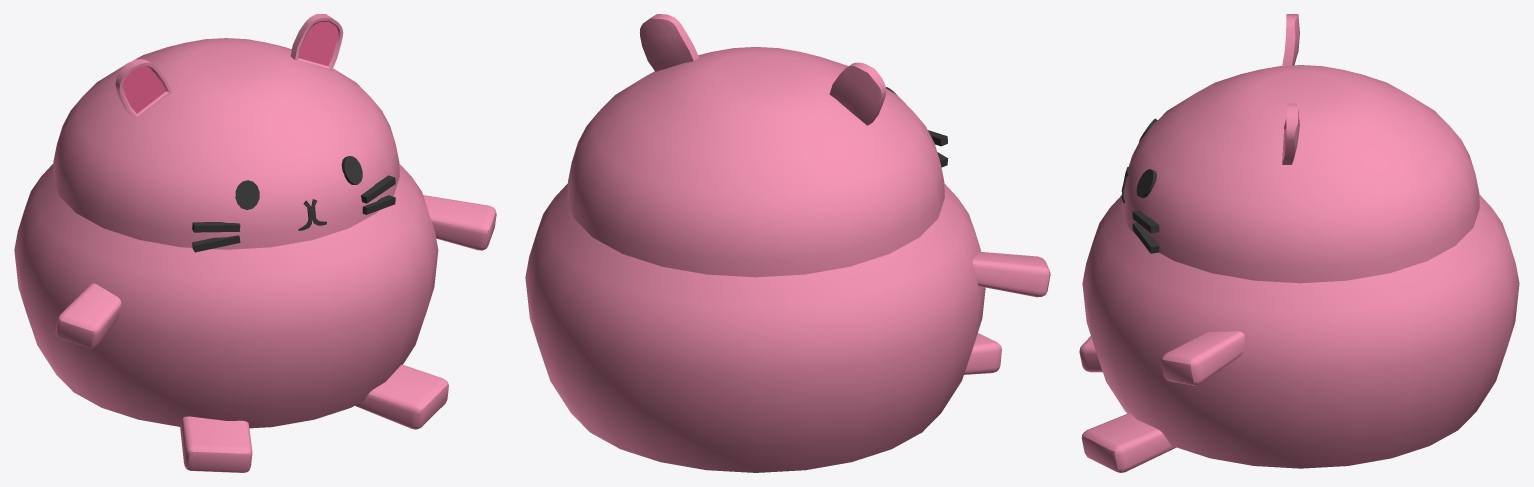
The model's file is Toy_Cat.fbx.
The picture shows the model from 3 angles, left to right: view 1: azimuth 30°, elevation 25°; view 2: azimuth 150°, elevation 25°; view 3: azimuth 270°, elevation 25°; orthographic projection. The views are drawn at different scales.
Parts seen in each view (by area): view 1: Toy_Cat; view 2: Toy_Cat; view 3: Toy_Cat.
Boxes of the visible parts, x1,y1,x2,y2 form: Toy_Cat: [14, 14, 496, 472]; Toy_Cat: [525, 14, 1050, 472]; Toy_Cat: [1079, 14, 1519, 472].
Bounding box in the file's own units: 21.27 × 15.95 × 18.05.
1 material, 1 textured.
